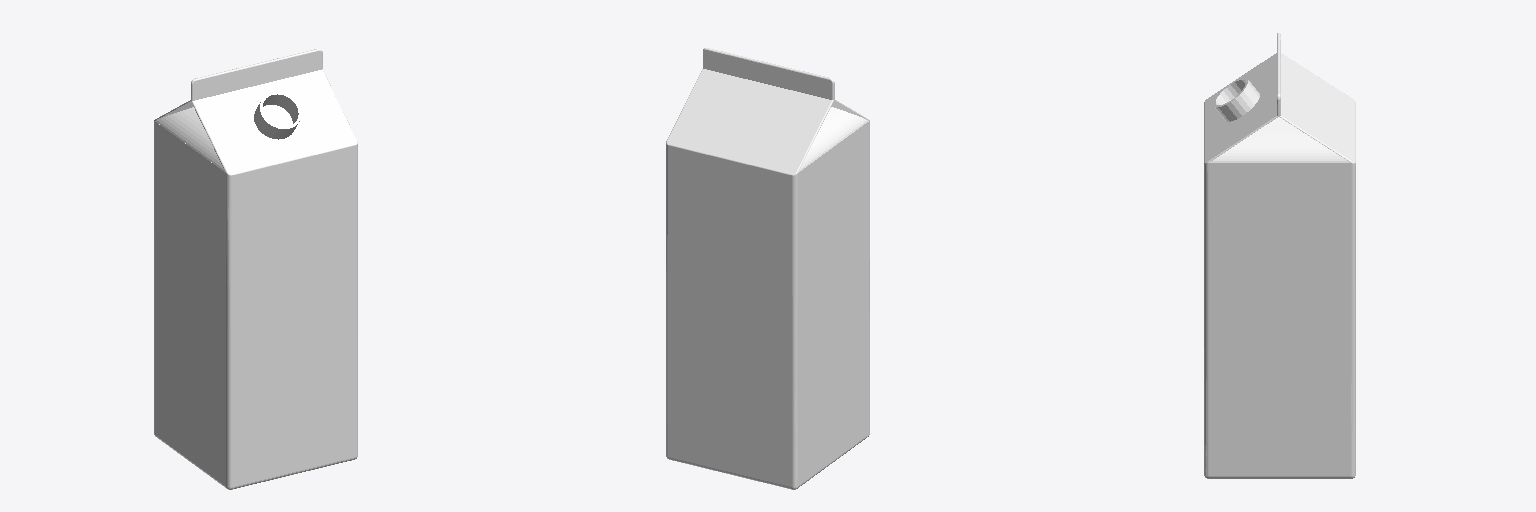
The model's file is milk.obj.
3 renders of one model, left to right at view 1: azimuth 30°, elevation 25°; view 2: azimuth 150°, elevation 25°; view 3: azimuth 270°, elevation 25°, orthographic.
Parts seen in each view (by area): view 1: |Part1|Root|color; view 2: |Part1|Root|color; view 3: |Part1|Root|color.
Part boxes in pixels (x1,y1,x2,y2): |Part1|Root|color: (154,49,357,489); |Part1|Root|color: (666,48,869,489); |Part1|Root|color: (1204,33,1355,478).
Bounding box in the file's own units: 0.1 × 0.28 × 0.1.